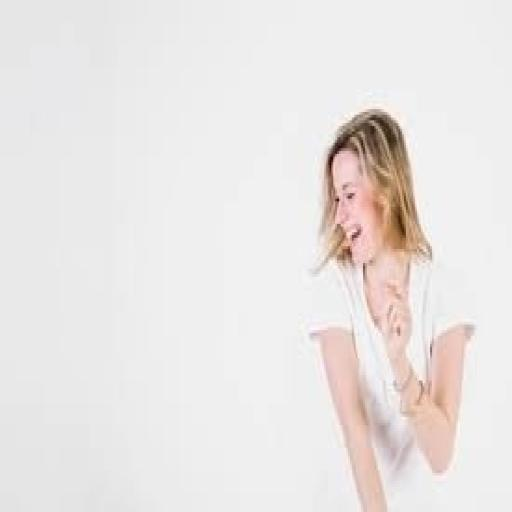laughing: (296, 98, 480, 506)
